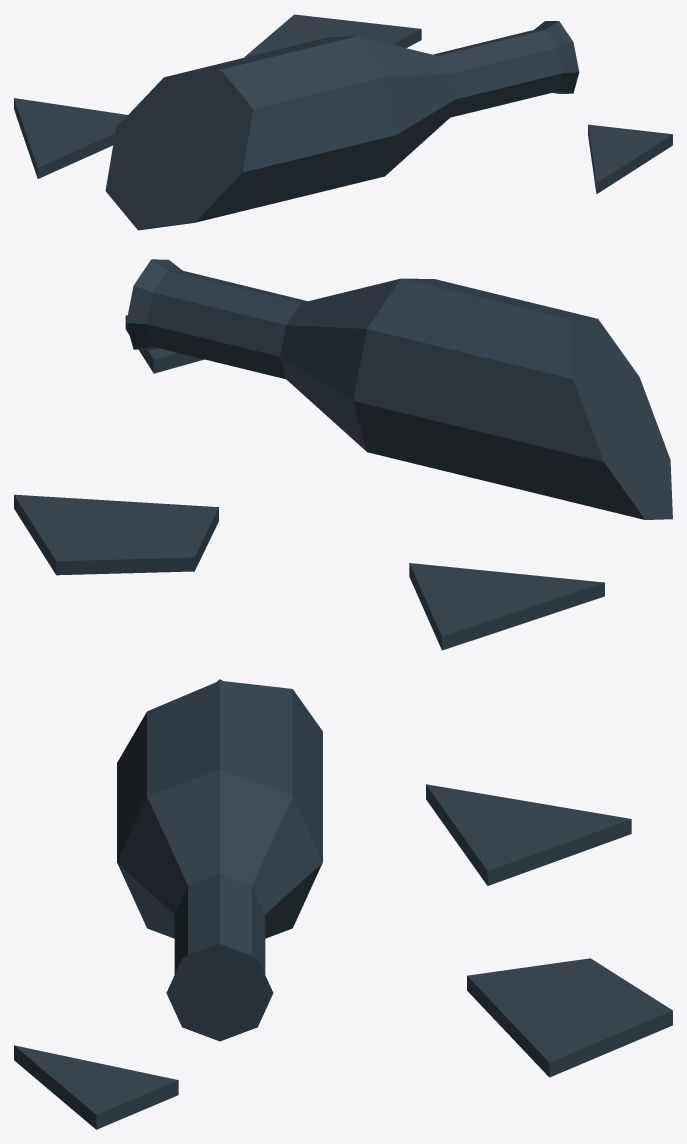
The model's file is debris_verre.glb.
3 renders of one model, top to bottom at view 1: azimuth 30°, elevation 25°; view 2: azimuth 150°, elevation 25°; view 3: azimuth 270°, elevation 25°, orthographic. The views are drawn at different scales.
Visible parts, largest first — view 1: bottle, shard_a, shard_c, shard_b; view 2: bottle, shard_b, shard_a, shard_c; view 3: bottle, shard_b, shard_a, shard_c.
Boxes of the visible parts, x1,y1,x2,y2 form: bottle: [105, 21, 579, 230]; shard_a: [14, 98, 127, 178]; shard_c: [588, 124, 672, 194]; shard_b: [244, 14, 421, 57]; bottle: [126, 259, 672, 519]; shard_b: [14, 494, 218, 575]; shard_a: [409, 563, 604, 650]; shard_c: [125, 315, 204, 373]; bottle: [117, 679, 322, 1041]; shard_b: [467, 958, 672, 1077]; shard_a: [426, 784, 631, 885]; shard_c: [14, 1045, 178, 1129].
Size of the model in its own units: 0.19 by 0.05 by 0.16.
Materials: 1 (1 with a texture image).
